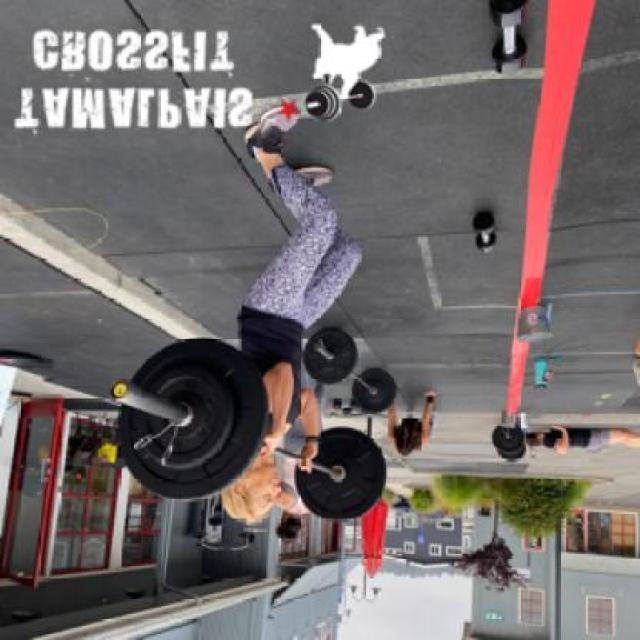Barbell: (107, 378, 135, 404), (314, 339, 326, 350)
